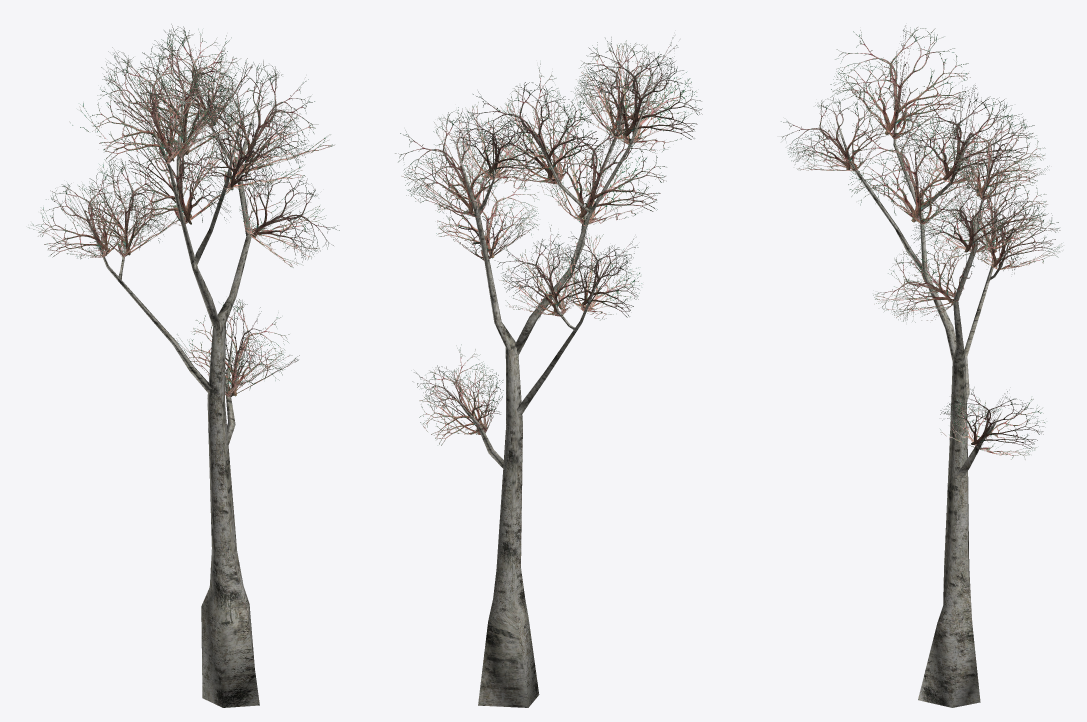
File: decd_whitebirchtreebranches_a2_l0.fbx
3 views of the same model, side by side, from view 1: azimuth 30°, elevation 25°; view 2: azimuth 150°, elevation 25°; view 3: azimuth 270°, elevation 25° (orthographic). The views are drawn at different scales.
Parts seen in each view (by area): view 1: mesh_node; view 2: mesh_node; view 3: mesh_node.
Boxes of the visible parts, <box> form: mesh_node: <box>28,24,339,707</box>; mesh_node: <box>395,37,702,707</box>; mesh_node: <box>781,25,1062,707</box>.
Bounding box in the file's own units: 7.8 × 17.79 × 7.85.
